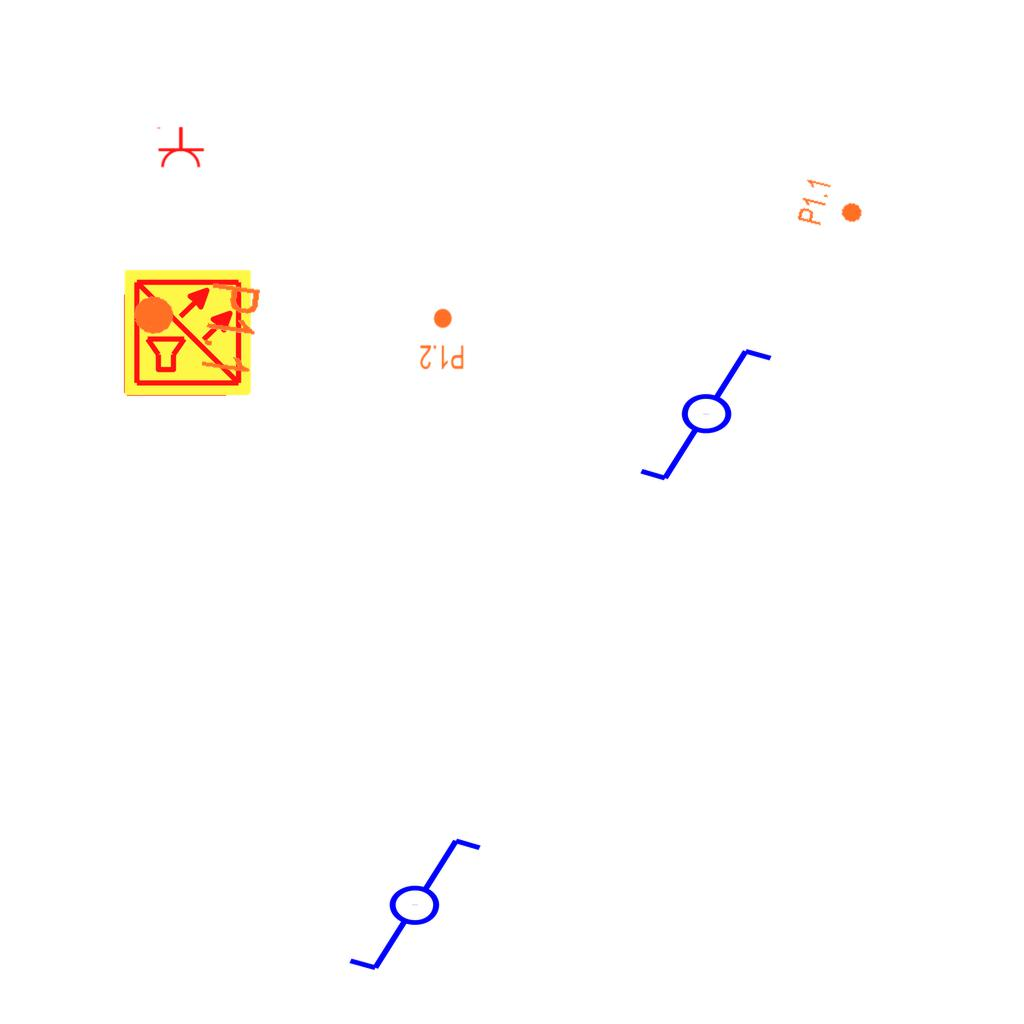Downlight_LED_Einbauleuchten_Flur: (124, 269, 265, 379), (795, 175, 869, 237), (419, 307, 465, 371)
OKW_Multisensormelder_(Kombination_optischer_Rauch-Kahlenmonoxid_Waerme-Melder): (122, 267, 254, 399)
Schukosteckdose_einfach: (155, 126, 205, 169)
Wechselschalter: (328, 831, 485, 975), (636, 344, 793, 488)
